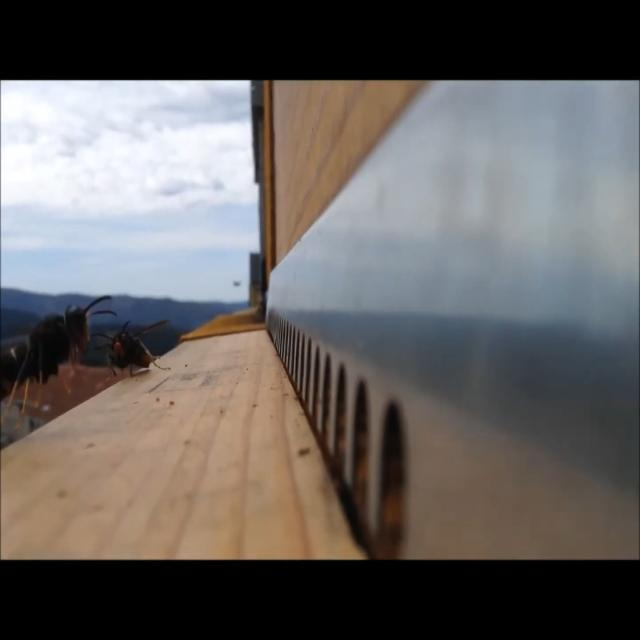Hornets: (0, 291, 119, 415), (97, 318, 178, 379)
